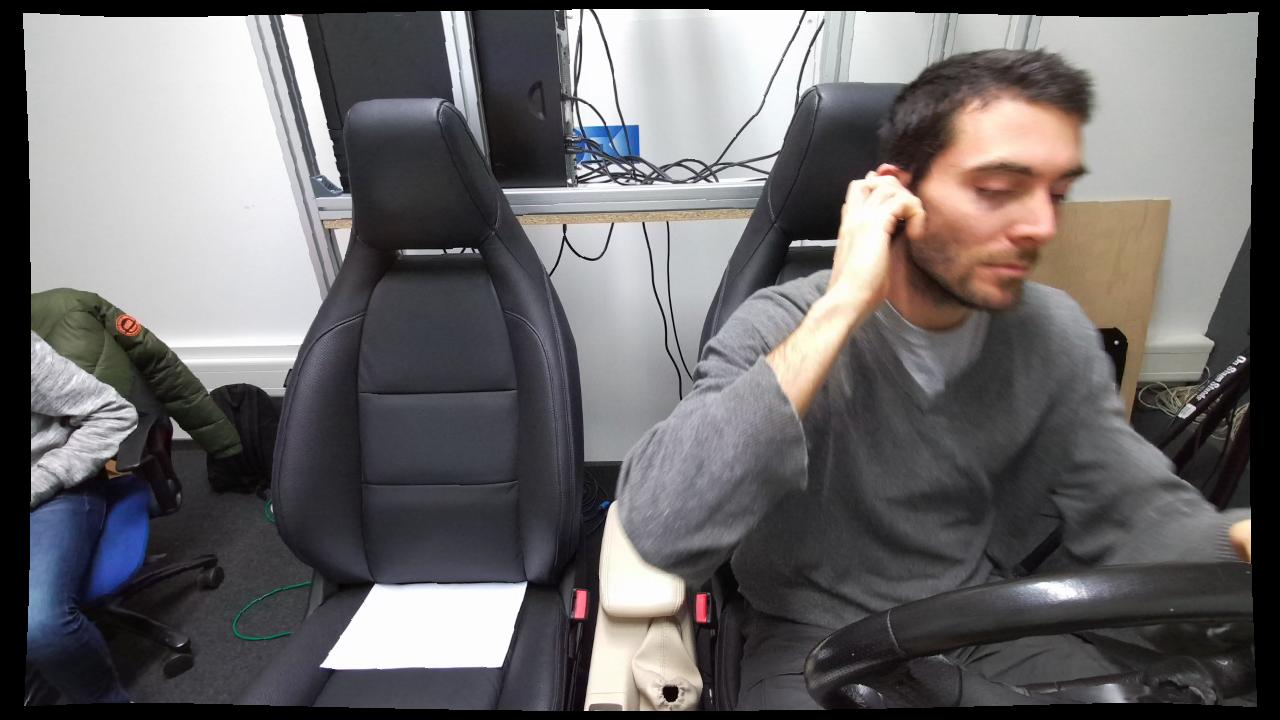Distracted: (615, 48, 1150, 711), (619, 49, 1151, 708)
PhoneUse: (819, 143, 940, 279)
